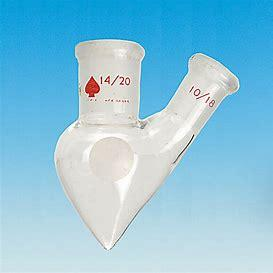Pear shaped flask: (43, 23, 237, 251)
